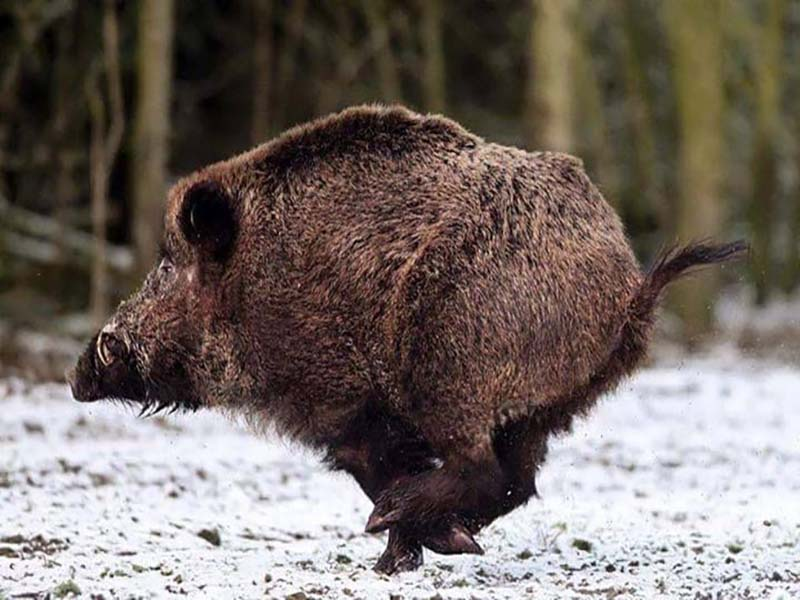cinghiale: (71, 104, 772, 570)
